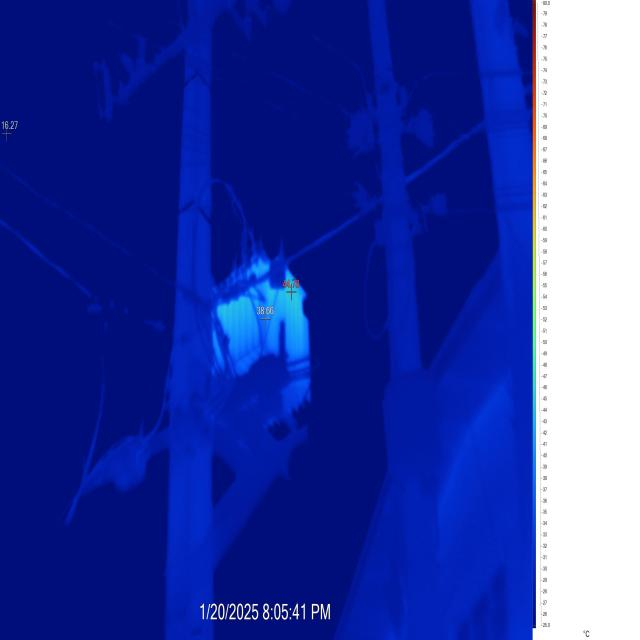Transformer: (6, 3, 525, 565)
